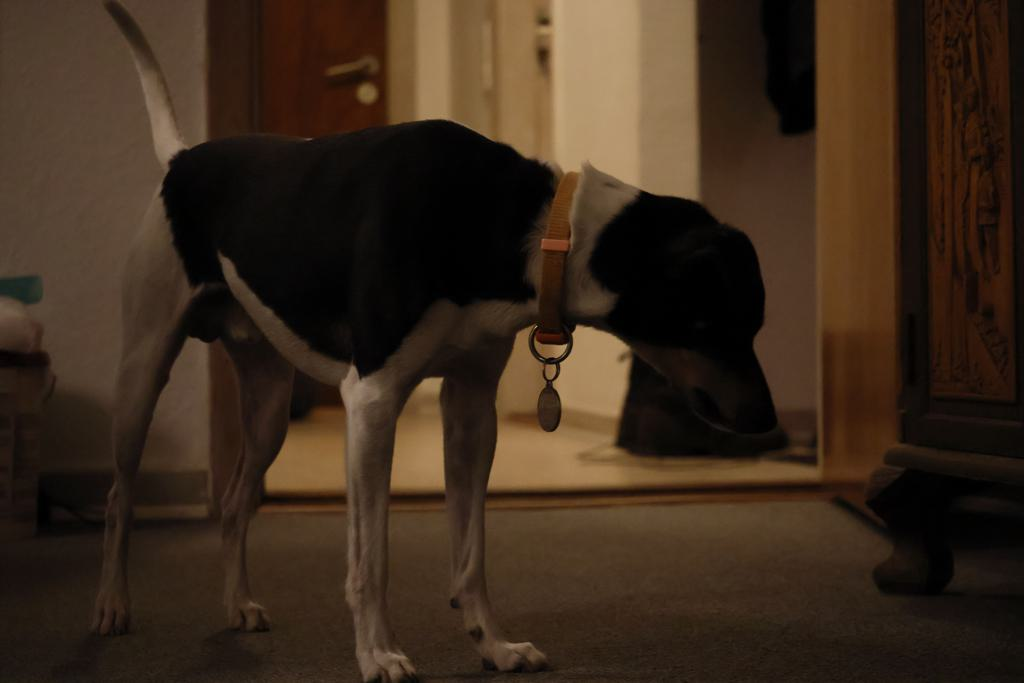Dog: (76, 0, 791, 683)
